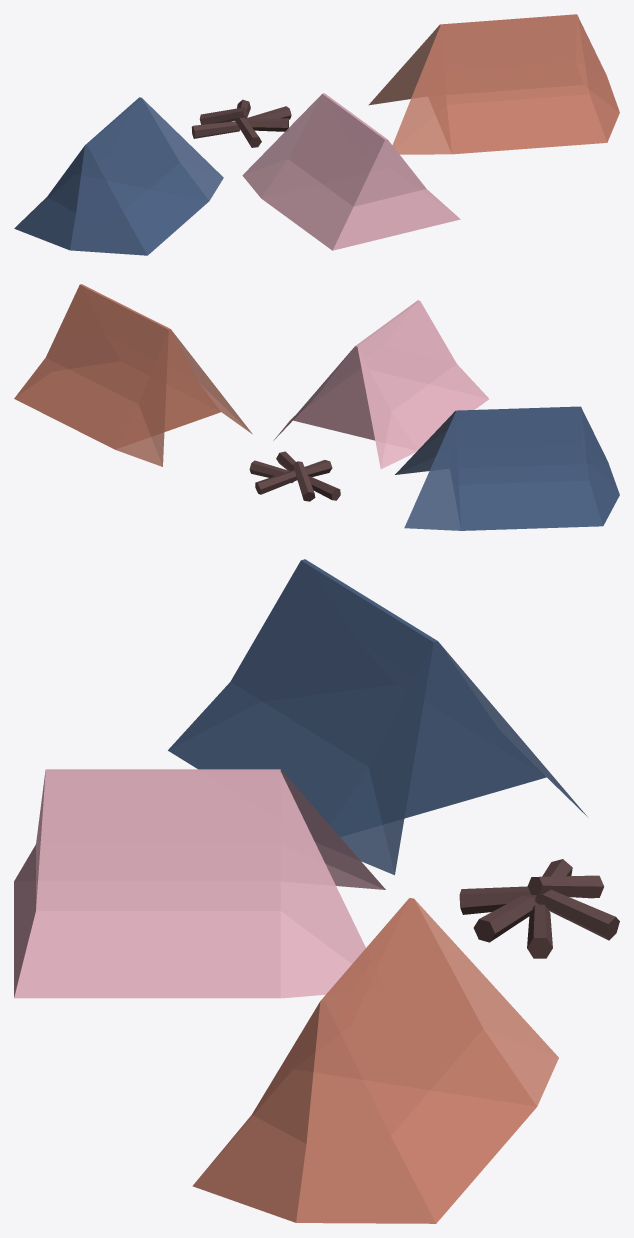
File: tent_camp.fbx
3 views of the same model, one above another, from view 1: azimuth 30°, elevation 25°; view 2: azimuth 150°, elevation 25°; view 3: azimuth 270°, elevation 25° (orthographic). The views are drawn at different scales.
Visible parts, largest first — view 1: tent03, tent01, tent02, firecamp; view 2: tent01, tent03, tent02, firecamp; view 3: tent02, tent03, tent01, firecamp.
Boxes of the visible parts, x1,y1,x2,y2 form: tent03: [368, 14, 619, 154]; tent01: [14, 97, 223, 255]; tent02: [242, 93, 460, 250]; firecamp: [191, 99, 291, 147]; tent01: [395, 406, 619, 530]; tent03: [14, 284, 252, 466]; tent02: [273, 300, 488, 469]; firecamp: [249, 451, 340, 501]; tent02: [14, 769, 385, 998]; tent03: [192, 898, 558, 1223]; tent01: [168, 559, 588, 875]; firecamp: [459, 859, 619, 958].
Size of the model in its own units: 622 by 104 by 301.
